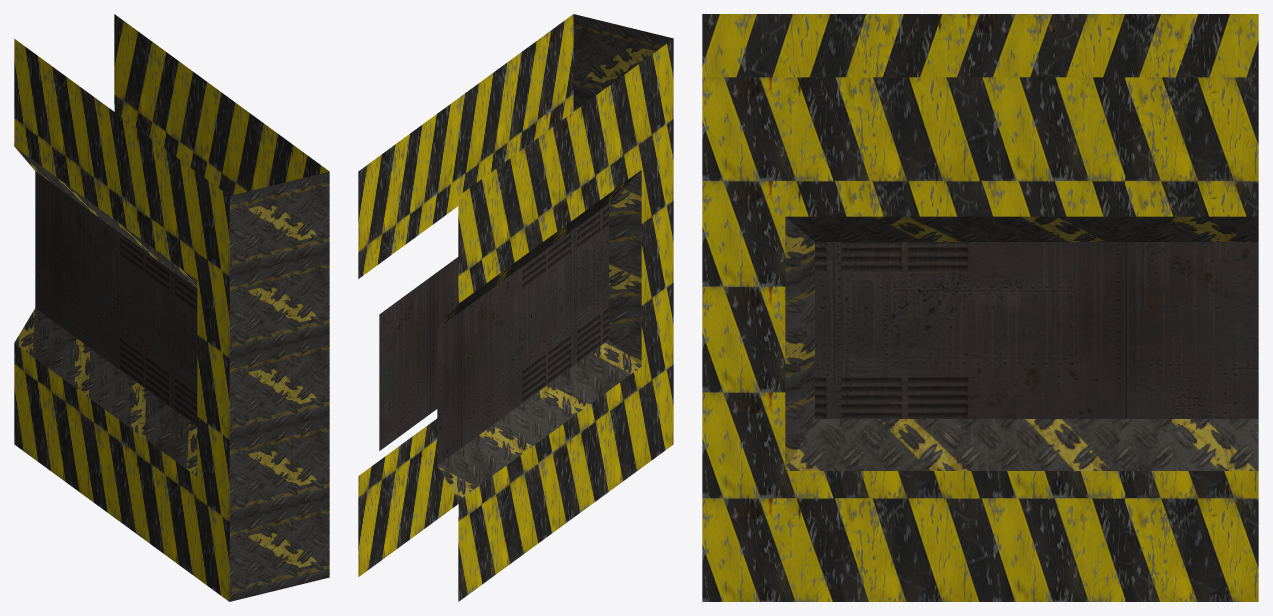
Rendered from AlphaDoorModel.fbx.
3 views of the same model, side by side, from view 1: azimuth 30°, elevation 25°; view 2: azimuth 150°, elevation 25°; view 3: azimuth 270°, elevation 25° (orthographic). The views are drawn at different scales.
Visible parts, largest first — view 1: Door; view 2: Door; view 3: Door.
Part boxes in pixels (x1,y1,x2,y2): Door: (14, 14, 329, 601); Door: (358, 14, 673, 601); Door: (702, 14, 1258, 601).
Bounding box in the file's own units: 1.42 × 5.5 × 5.28.
